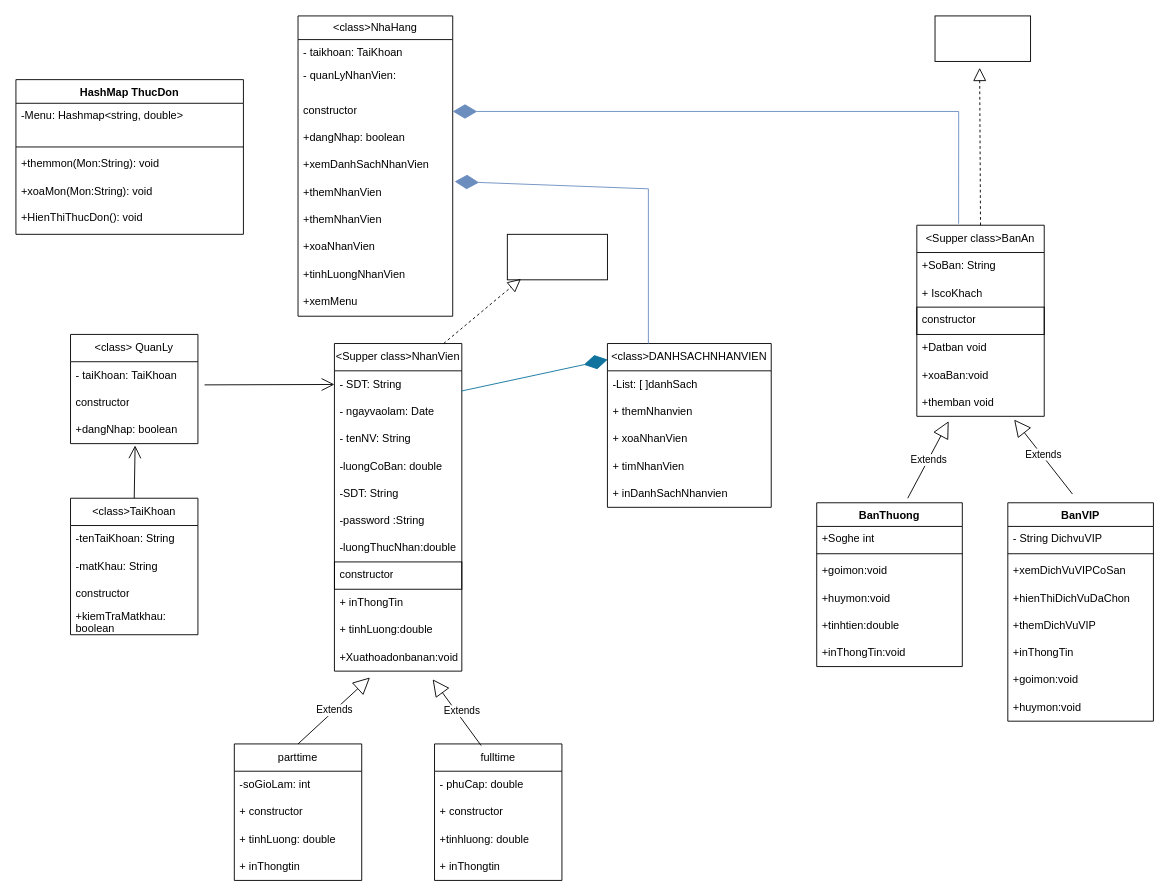
The diagram is 1169 pixels wide and 896 high, and some of its shapes have lost their labels. The centre of each missing label's shape, as x and y in pixels:
«interface» ITinhLuong void TinhLuong: point 556,256
«interface» ITINHTIEN void TinhTien: point 982,38
